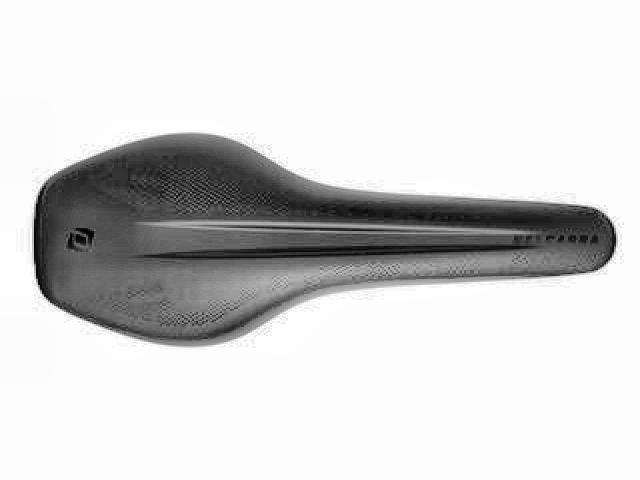saddle: (29, 133, 617, 352)
